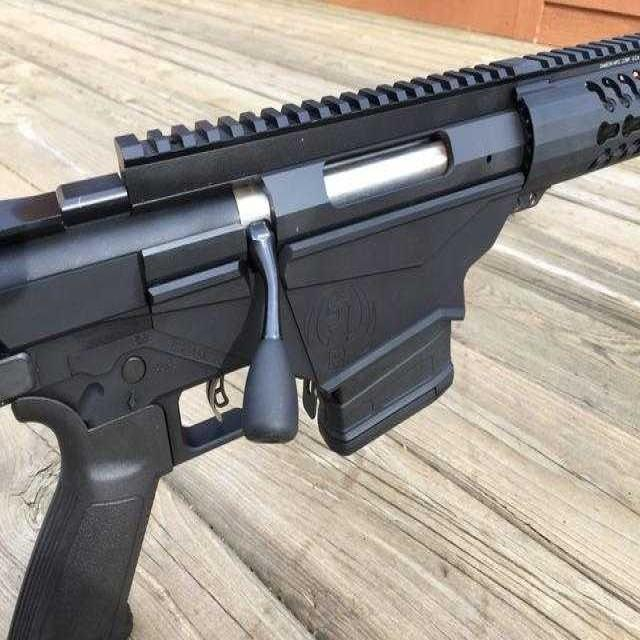heavyweapon: (1, 29, 640, 640)
